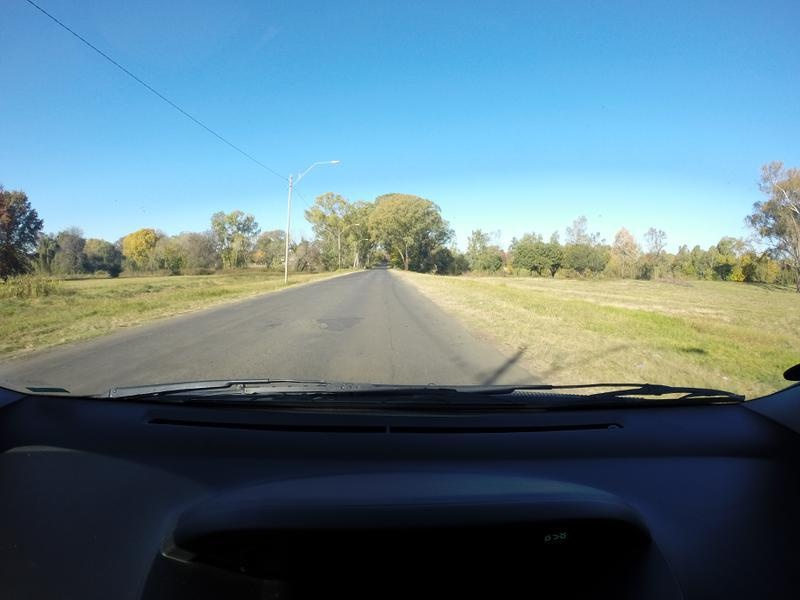pothole: (254, 318, 281, 338)
